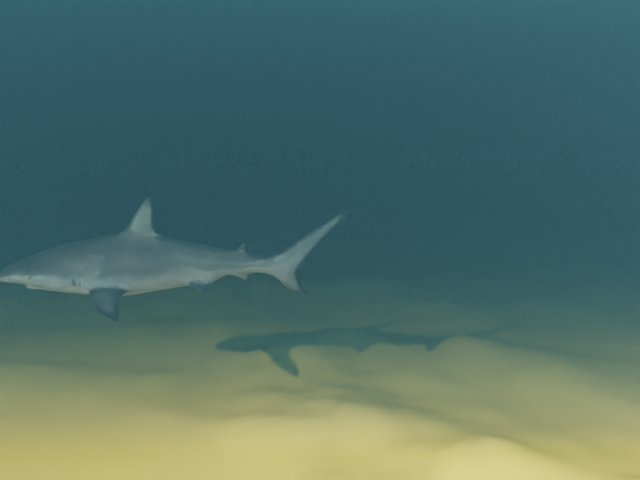Carribean Shark.001: (0, 197, 351, 321)
